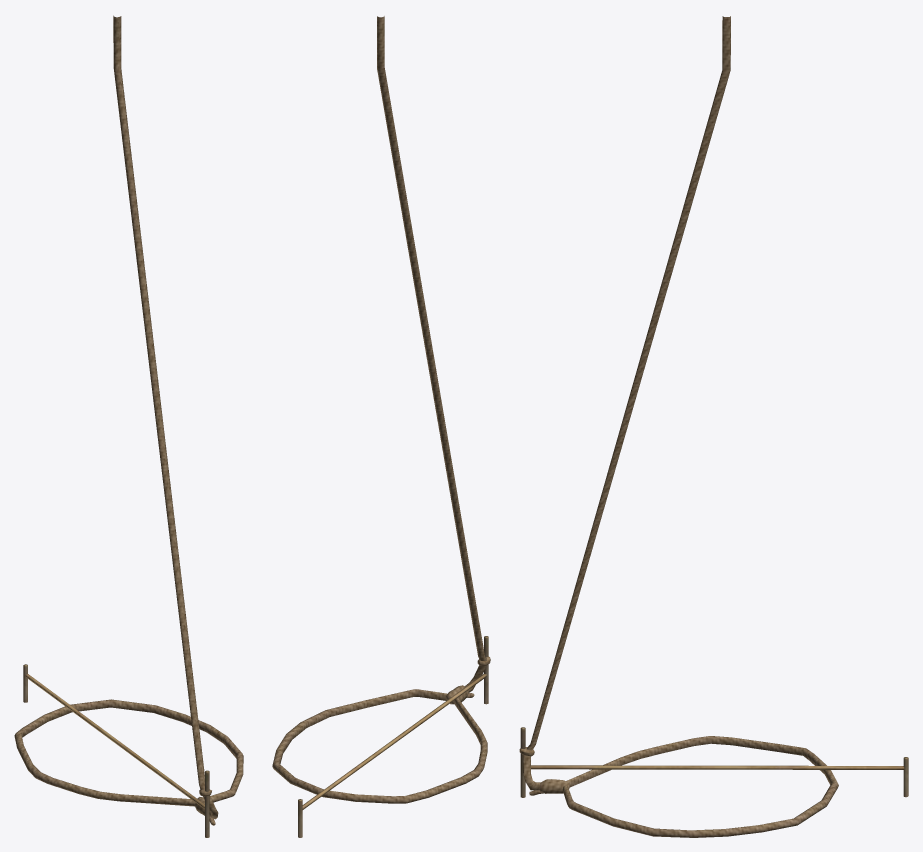
The model's file is SM_NooseTrap_Rope_92356c.glb.
The picture shows the model from 3 angles, left to right: view 1: azimuth 30°, elevation 25°; view 2: azimuth 150°, elevation 25°; view 3: azimuth 270°, elevation 25°; orthographic projection. The views are drawn at different scales.
Bounding box in the file's own units: 1.1 × 4.22 × 1.9.
1 material, 1 textured.
